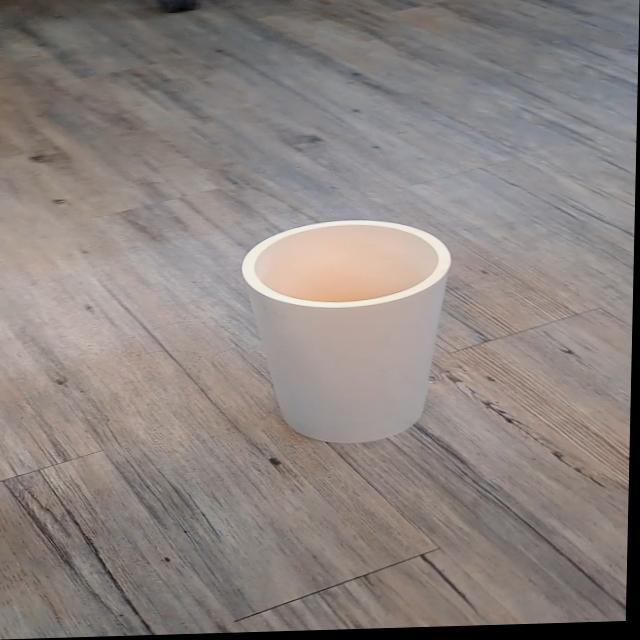CORAL: (185, 188, 565, 483)
